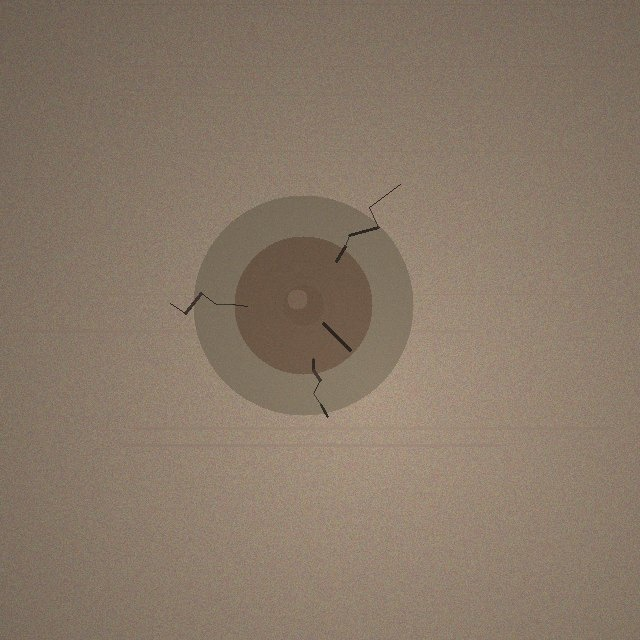crack: (193, 195, 413, 415)
